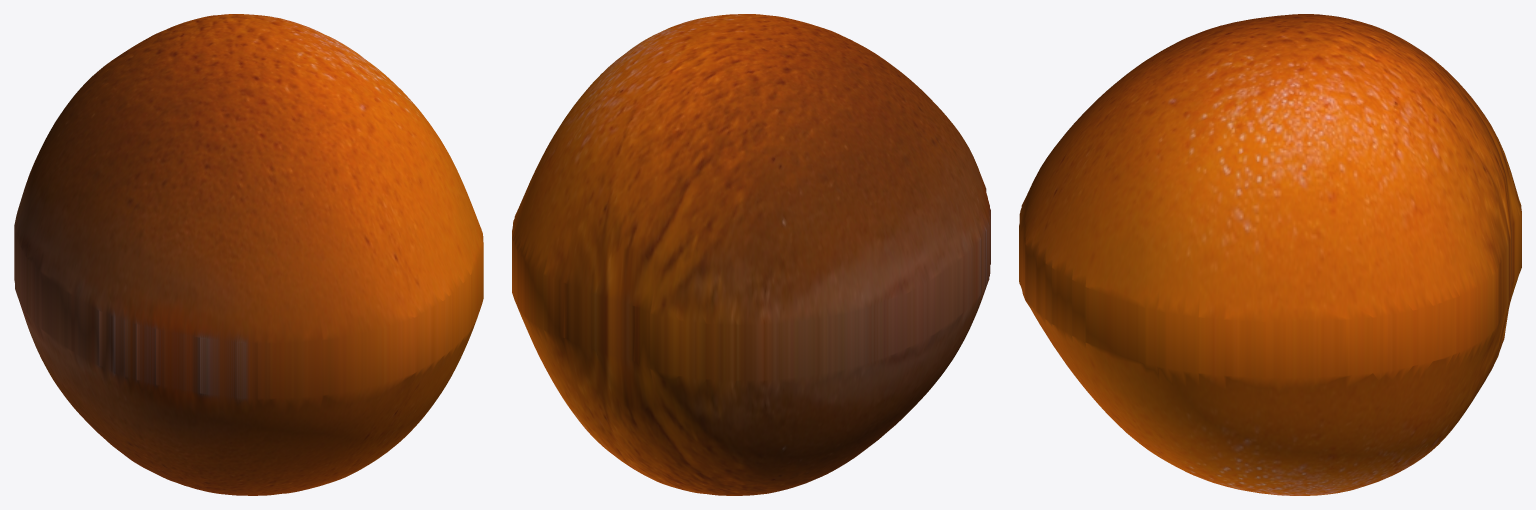
Rendered from orange_9.obj.
The picture shows the model from 3 angles, left to right: view 1: azimuth 30°, elevation 25°; view 2: azimuth 150°, elevation 25°; view 3: azimuth 270°, elevation 25°; orthographic projection.
Parts seen in each view (by area): view 1: Grid; view 2: Grid; view 3: Grid.
Boxes of the visible parts, x1,y1,x2,y2 form: Grid: [14, 14, 483, 495]; Grid: [512, 14, 990, 495]; Grid: [1019, 14, 1521, 495].
Bounding box in the file's own units: 1.51 × 1.6 × 1.65.
Materials: 1 (1 with a texture image).
